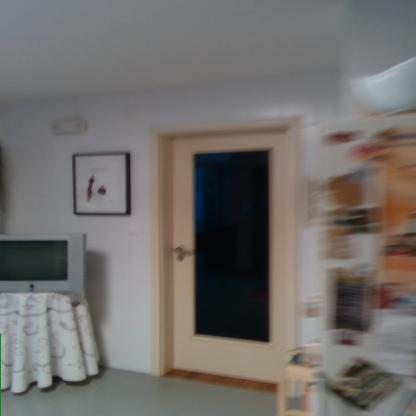door: (171, 139, 292, 385)
lever: (173, 250, 196, 258)
